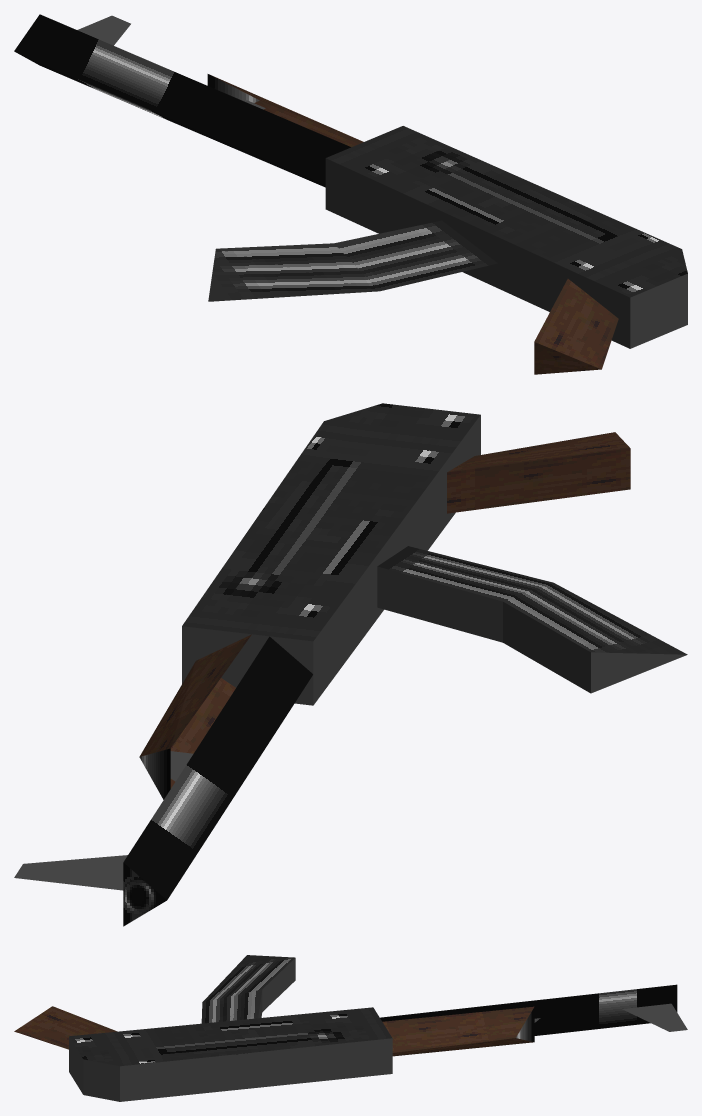
Rendered from primary_041.glb.
3 views of the same model, one above another, from view 1: azimuth 30°, elevation 25°; view 2: azimuth 150°, elevation 25°; view 3: azimuth 270°, elevation 25° (orthographic). The views are drawn at different scales.
Visible parts, largest first — view 1: Object; view 2: Object; view 3: Object.
Boxes of the visible parts, box(x1,y1,x2,y2) form: Object: box(14, 14, 687, 374); Object: box(14, 403, 687, 926); Object: box(14, 955, 687, 1101).
Size of the model in its own units: 0.3438 by 0.0441 by 0.7554.
7 materials, 7 textured.
